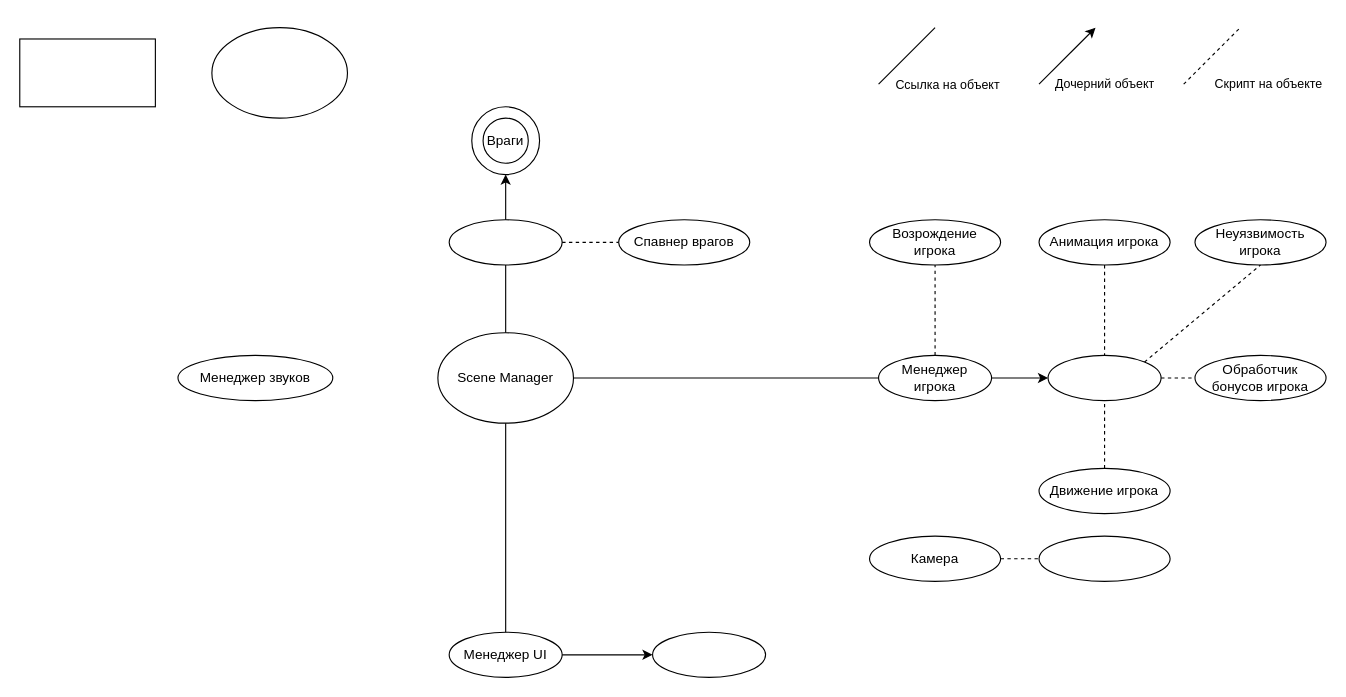
Image size: 1346x697. Some labels were removed from this diagram. The shapes that lost their labels are listed below. From the top down, each one's centre as x and y in pixels, then its label:
the point at 87,72: скрипт
the point at 279,72: объект
the point at 505,242: Менеджер врагов
the point at 1104,377: Игрок
the point at 1104,558: Движение камеры
the point at 708,654: Кнопки управления
